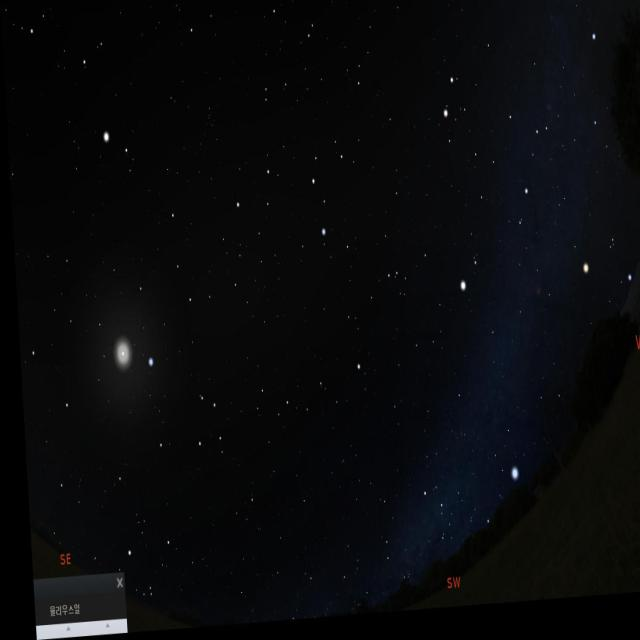bootes: (54, 0, 128, 166)
canis_minor: (445, 250, 482, 311)
gemini: (429, 62, 553, 242)
leo: (220, 122, 366, 266)
moon: (90, 306, 150, 403)
